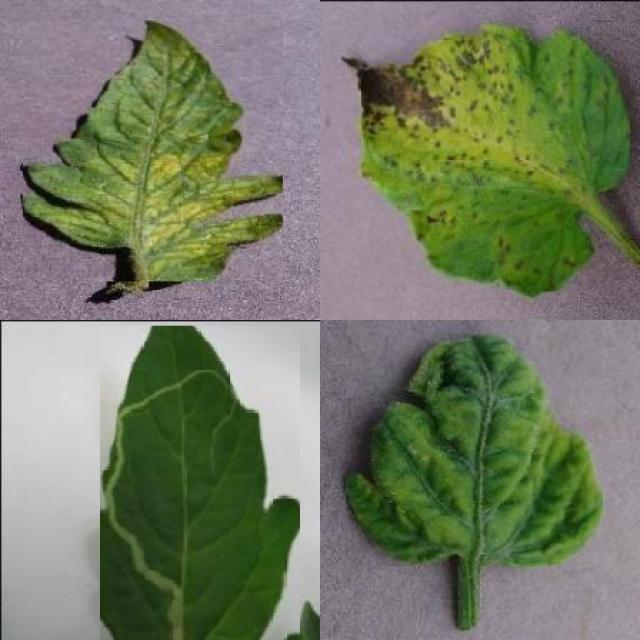Leaf Miner: (100, 325, 300, 640)
Mosaic Virus: (23, 18, 283, 282)
Septoria: (344, 25, 630, 292)
Yellow Leaf Curl Virus: (346, 334, 603, 566)
